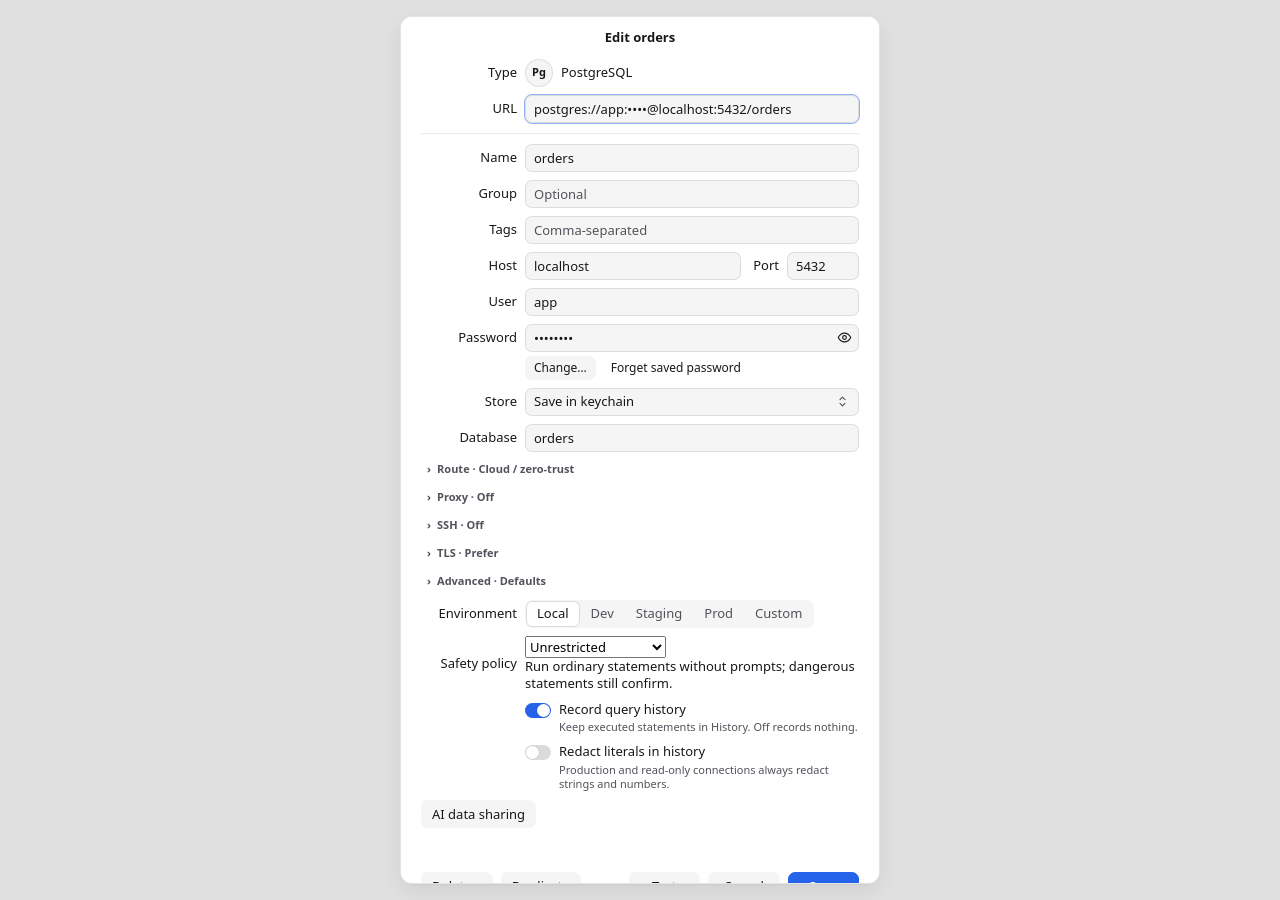
Test: reads a saved password only when Reveal is clicked and hides it again on blur
The width and height of the screenshot is (1280, 900).
expect the password field labelled "Password" does not hold "pw-revealed-synthetic": met, box [526,324,832,350]
Click the button named "Reveal password" at (844, 338), box [832,326,856,350]
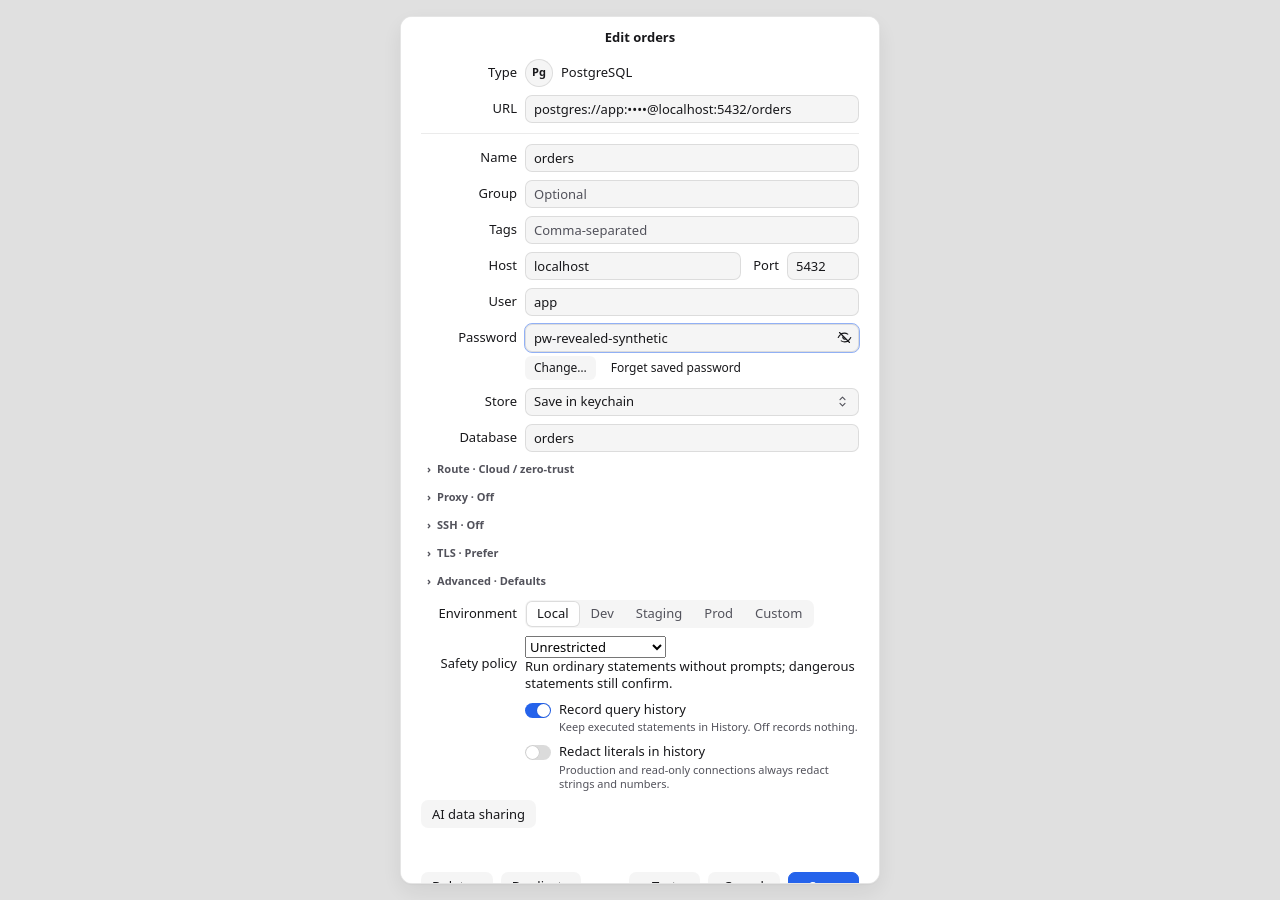
expect the field showing "pw-revealed-synthetic" shows its text: met, box [526,324,832,350]
Click the field labelled "Database" at (692, 438), box [526,424,858,450]
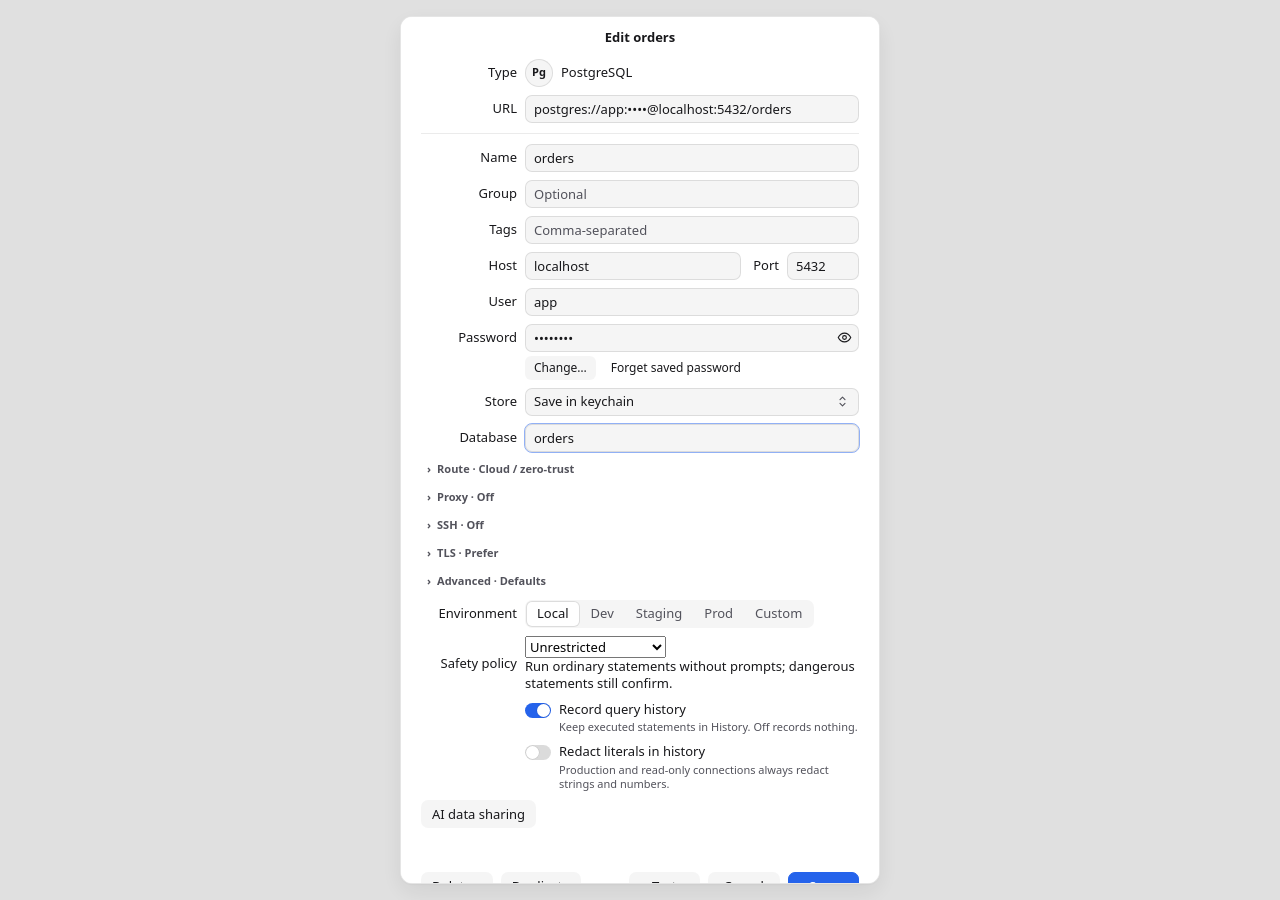
expect the field showing "pw-revealed-synthetic" is not shown: met
expect the password field showing "pw-revealed-synthetic" hides its text: met, box [526,324,832,350]
